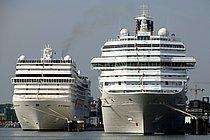Ship: (91, 2, 201, 138), (8, 41, 95, 132)
